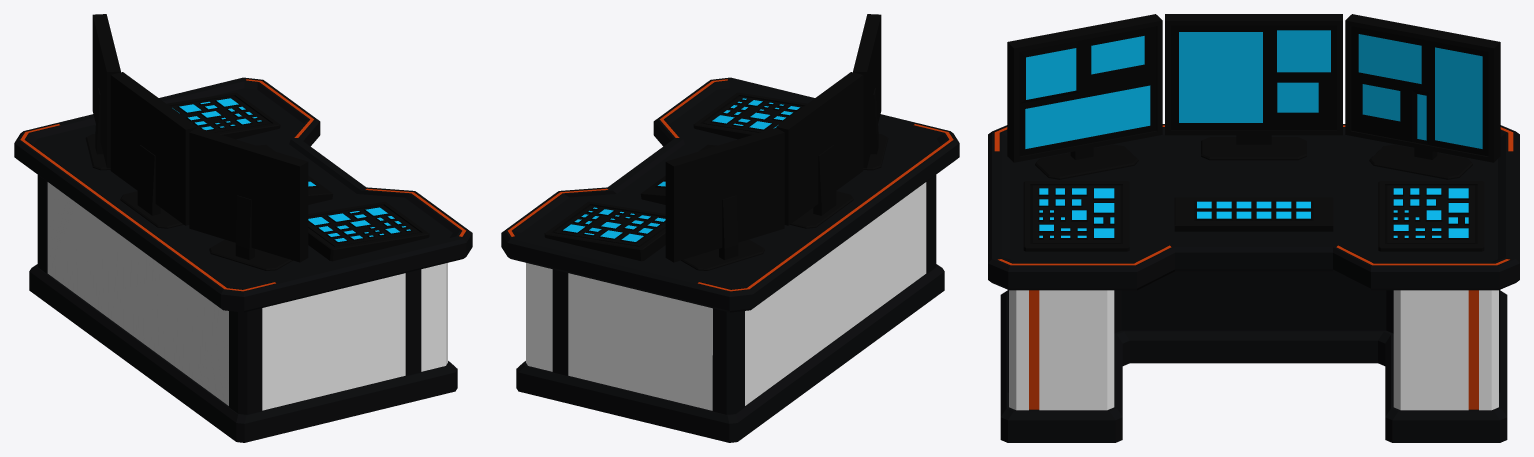
Rendered from SM_Control_Desk.obj.
The picture shows the model from 3 angles, left to right: view 1: azimuth 30°, elevation 25°; view 2: azimuth 150°, elevation 25°; view 3: azimuth 270°, elevation 25°; orthographic projection. The views are drawn at different scales.
Visible parts, largest first — view 1: SM_Control_Desk; view 2: SM_Control_Desk; view 3: SM_Control_Desk.
Part boxes in pixels (x1,y1,x2,y2): SM_Control_Desk: [14, 14, 472, 442]; SM_Control_Desk: [501, 14, 959, 442]; SM_Control_Desk: [988, 14, 1519, 442].
Size of the model in its own units: 1.37 by 1.35 by 2.1.
